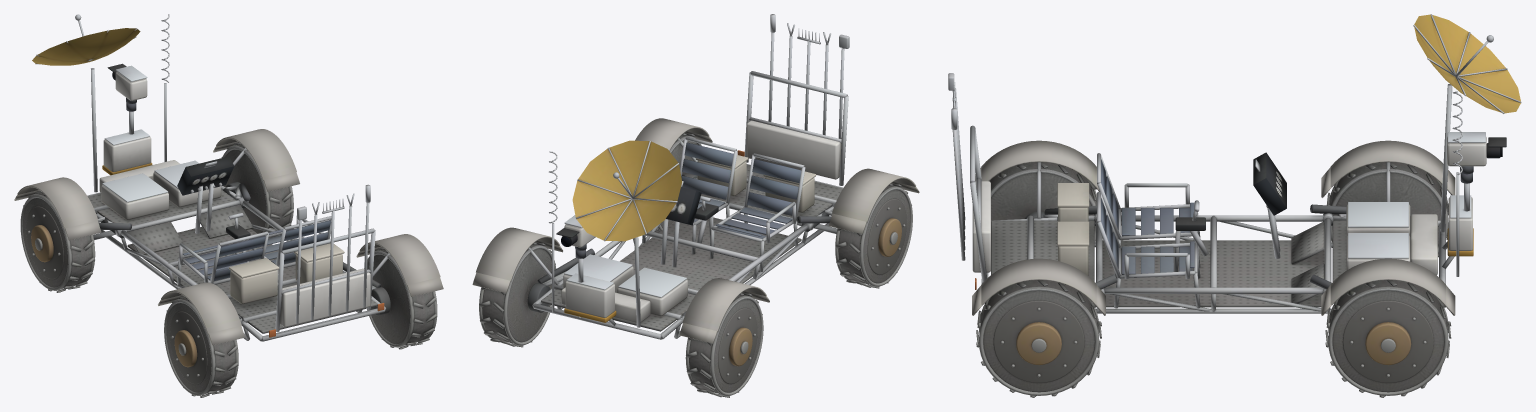
The model's file is lrv.glb.
The picture shows the model from 3 angles, left to right: view 1: azimuth 30°, elevation 25°; view 2: azimuth 150°, elevation 25°; view 3: azimuth 270°, elevation 25°; orthographic projection. The views are drawn at different scales.
Visible parts, largest first — view 1: Body, Wheel_FL, Wheel_RL, Wheel_RR, Wheel_FR, Camera; view 2: Body, Wheel_FL, Wheel_RL, Wheel_FR, Camera, Wheel_RR; view 3: Body, Wheel_FR, Wheel_RR, Wheel_FL, Wheel_RL, Camera.
Part boxes in pixels (x1,y1,x2,y2): Body: (14,14,443,345); Wheel_FL: (20,191,95,292); Wheel_RL: (164,296,238,397); Wheel_RR: (364,247,437,349); Wheel_FR: (221,142,293,238); Camera: (107,63,147,103); Body: (472,14,919,343); Wheel_FL: (685,293,763,397); Wheel_RL: (835,184,912,288); Wheel_FR: (479,242,556,347); Camera: (556,215,595,250); Wheel_RR: (650,133,701,232); Body: (948,14,1521,315); Wheel_FR: (1325,280,1451,397); Wheel_RR: (976,280,1101,397); Wheel_FL: (1326,162,1448,257); Wheel_RL: (989,162,1096,242); Camera: (1447,132,1506,174).
Size of the model in its own units: 2.2 by 2.06 by 3.76.
1 material, 1 textured.
